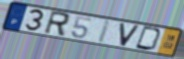3: (23, 8, 46, 33)
5: (70, 15, 93, 39)
D: (134, 25, 164, 52)
I: (96, 19, 113, 45)
R: (42, 10, 71, 38)
V: (119, 22, 141, 48)
